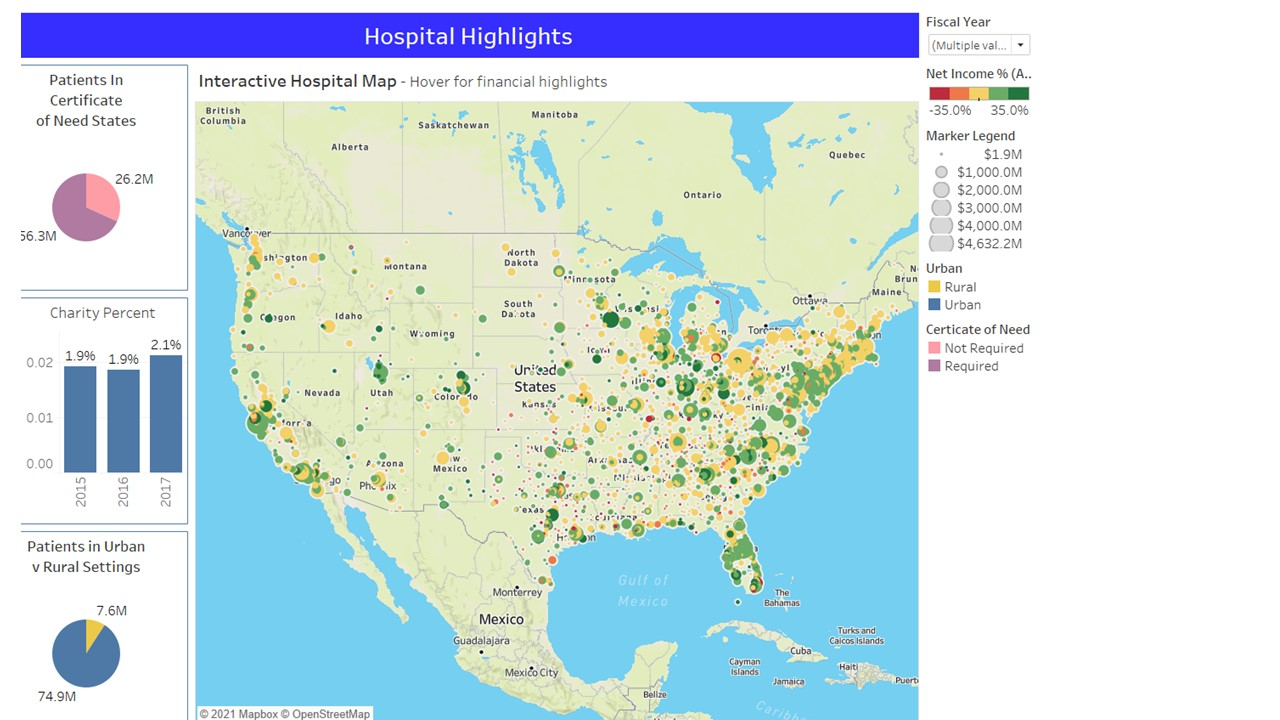

Layout of this report page (visuals, bound fields, positions):
{"tool":"tableau","page":{"name":"Dash/Content","canvas":[1000,1000],"units":"permille","ordinal":2},"visuals":[{"type":"worksheet","box":[0,0,1000,1000]},{"type":"worksheet","box":[6.6,9.3,493.4,90.7]},{"type":"worksheet","box":[500,9.3,493.4,90.7]},{"type":"worksheet","param":"Image/transform2.jpg","box":[6.6,100,493.4,890.7]},{"type":"worksheet","param":"Image/machine.jpg","box":[500,100,493.4,890.7]}]}

Visuals, with their boxes on the dashboard's canvas, which has no fixed pixel size, in thousandths of its width and height (x1, y1, x2, y2). These are canvas units, not pixel positions in the 1280x720 screenshot, which may show the page scaled, cropped or inside an application window:
worksheet: [0, 0, 1000, 1000]
worksheet: [7, 9, 500, 100]
worksheet: [500, 9, 993, 100]
worksheet: [7, 100, 500, 991]
worksheet: [500, 100, 993, 991]
